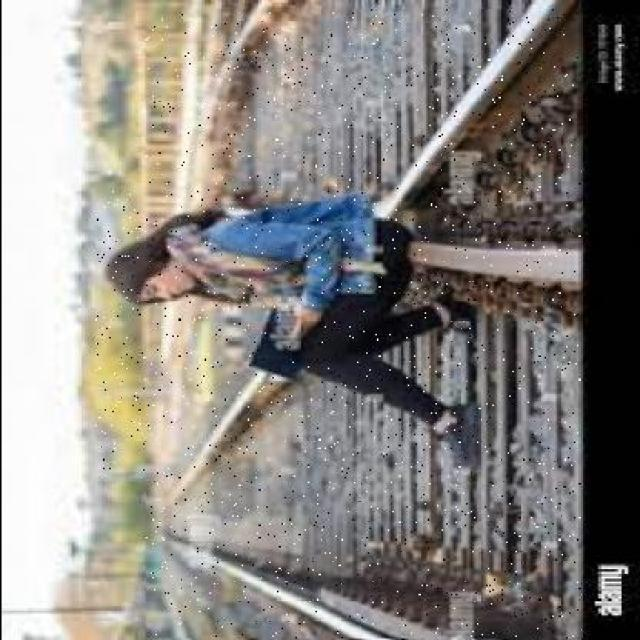danger: (94, 188, 488, 471)
rail: (145, 9, 580, 638)
